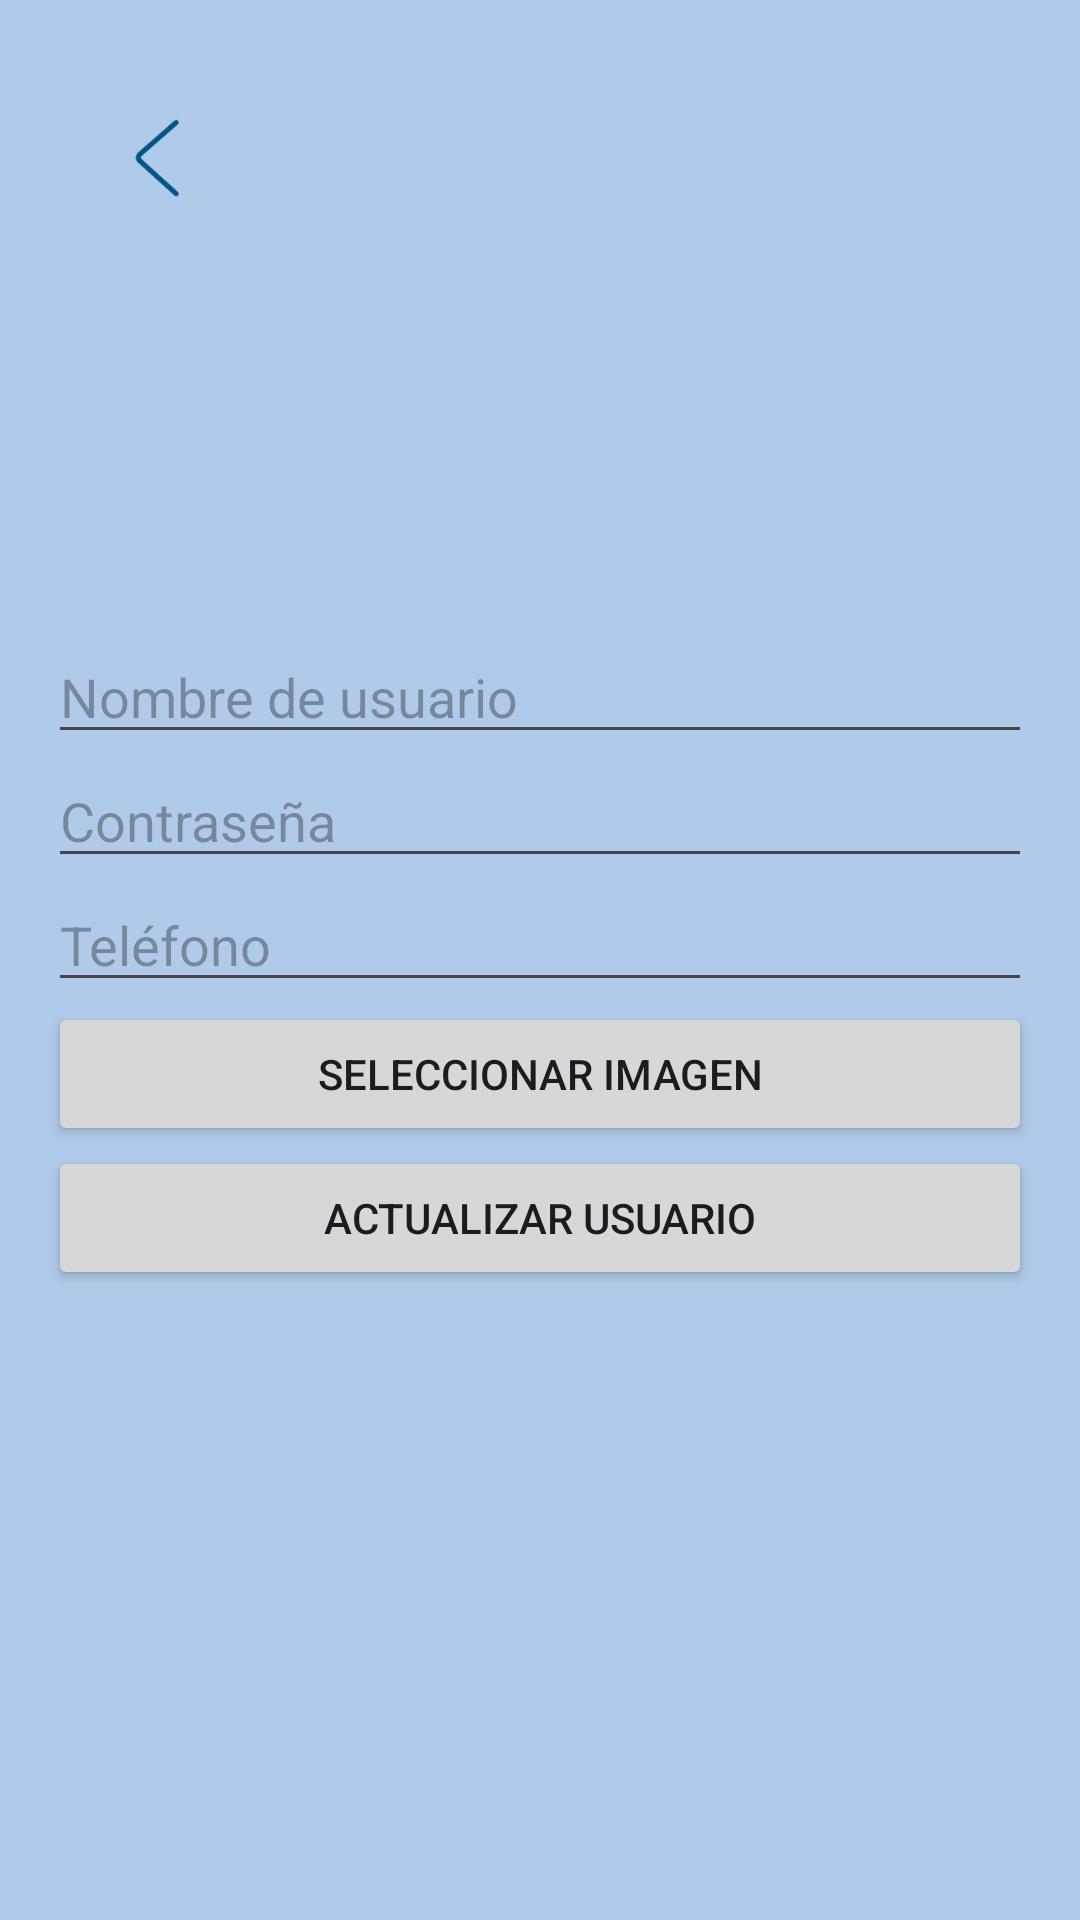

Screen size 1080w x 1920h. Icon name, then its center in pixels as [x,y]:
atras: [157,158]
